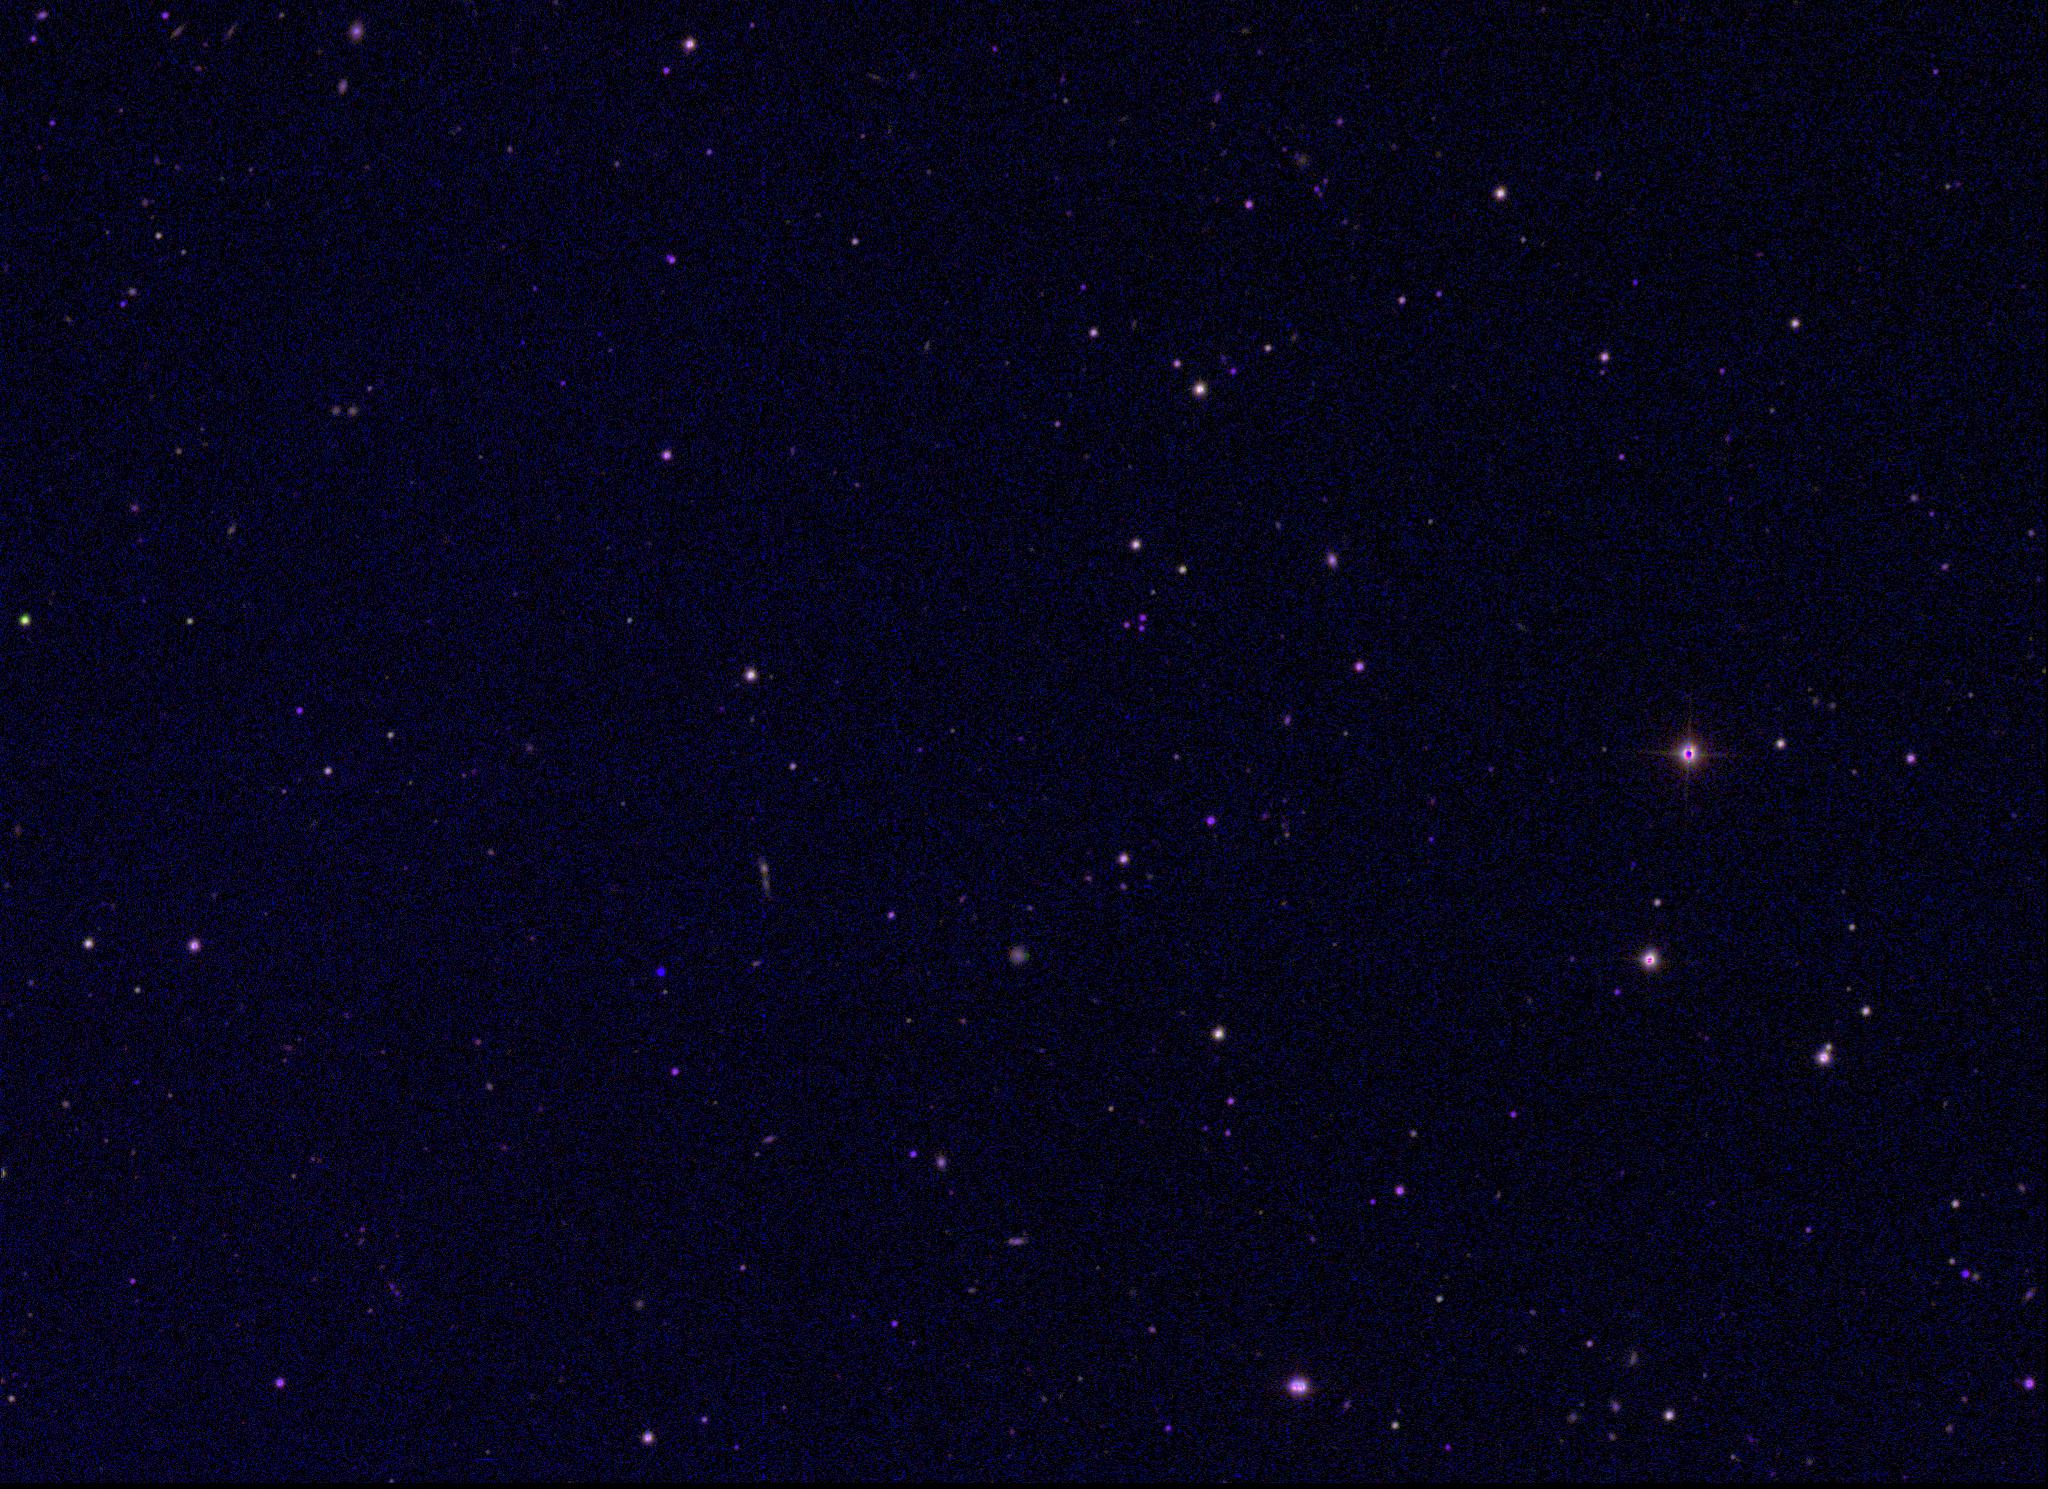L: (654, 966, 668, 978)
